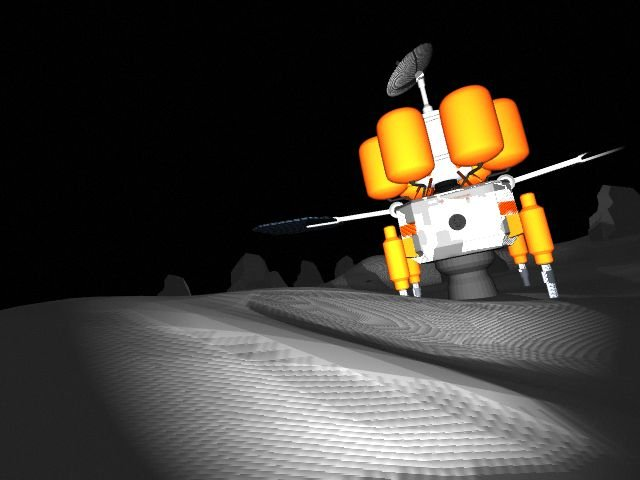homebase: (250, 40, 640, 313)
